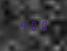four: (18, 20, 27, 31)
zero: (39, 19, 48, 30), (29, 20, 38, 30)
